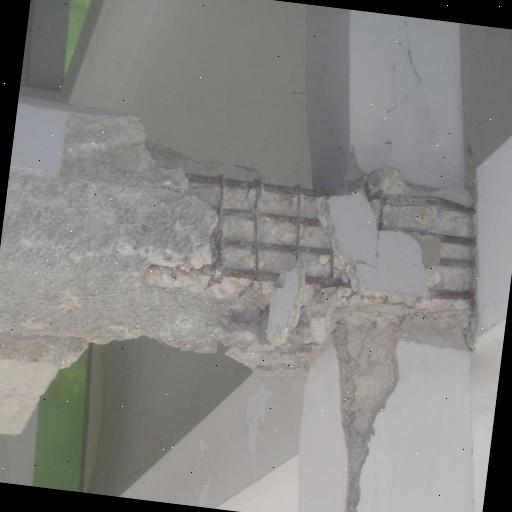spalling: (40, 134, 490, 341), (333, 337, 400, 512)
